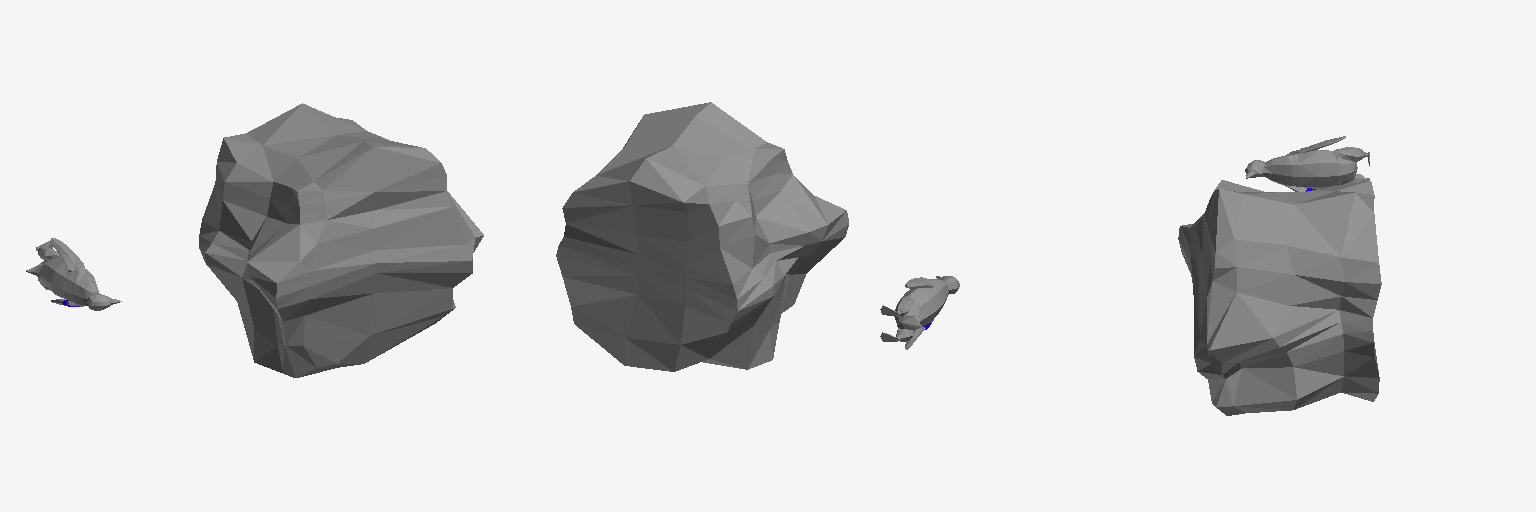
Rendered from grape.obj.
3 renders of one model, left to right at view 1: azimuth 30°, elevation 25°; view 2: azimuth 150°, elevation 25°; view 3: azimuth 270°, elevation 25°, orthographic.
Visible parts, largest first — view 1: Box004_Mesh.001, Box003_Mesh; view 2: Box004_Mesh.001, Box003_Mesh; view 3: Box004_Mesh.001, Box003_Mesh.
Part boxes in pixels (x1,y1,x2,y2): Box004_Mesh.001: (199,103,483,377); Box003_Mesh: (26,238,121,310); Box004_Mesh.001: (556,102,848,371); Box003_Mesh: (880,276,959,349); Box004_Mesh.001: (1178,180,1381,415); Box003_Mesh: (1245,136,1369,191).
Bounding box in the file's own units: 2.05 × 1.12 × 0.935.